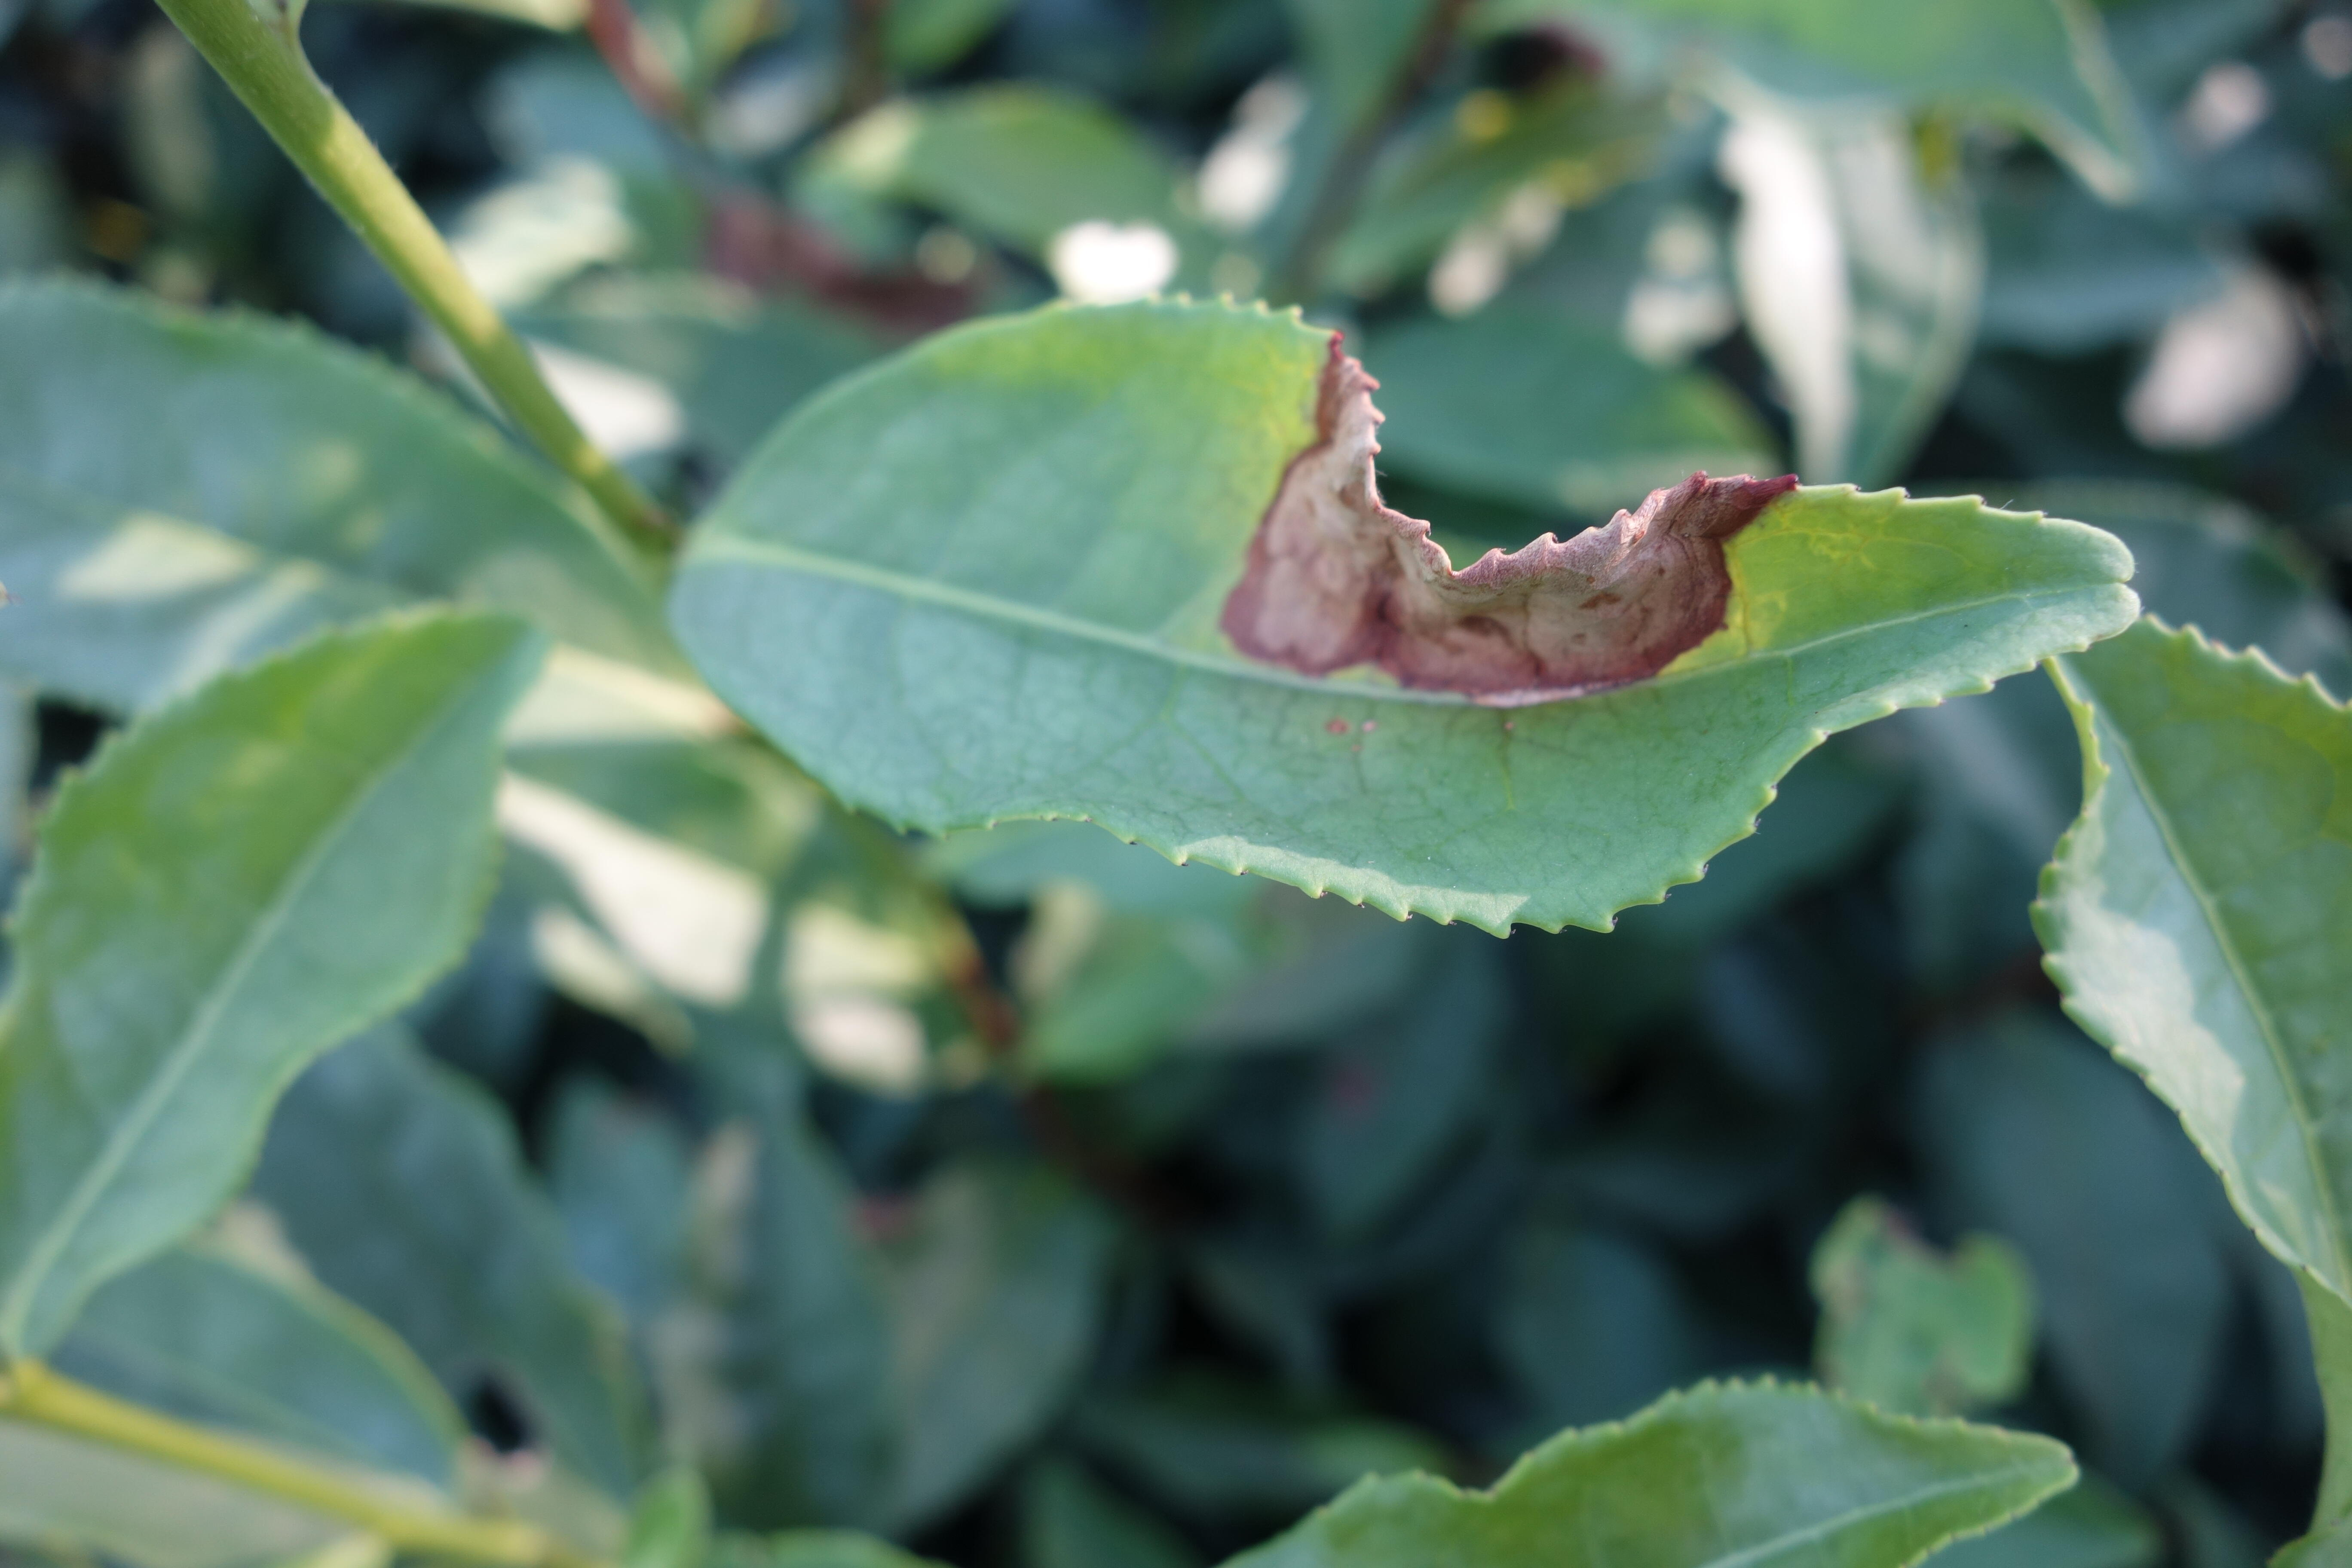tanju_high: (665, 294, 2147, 947)
